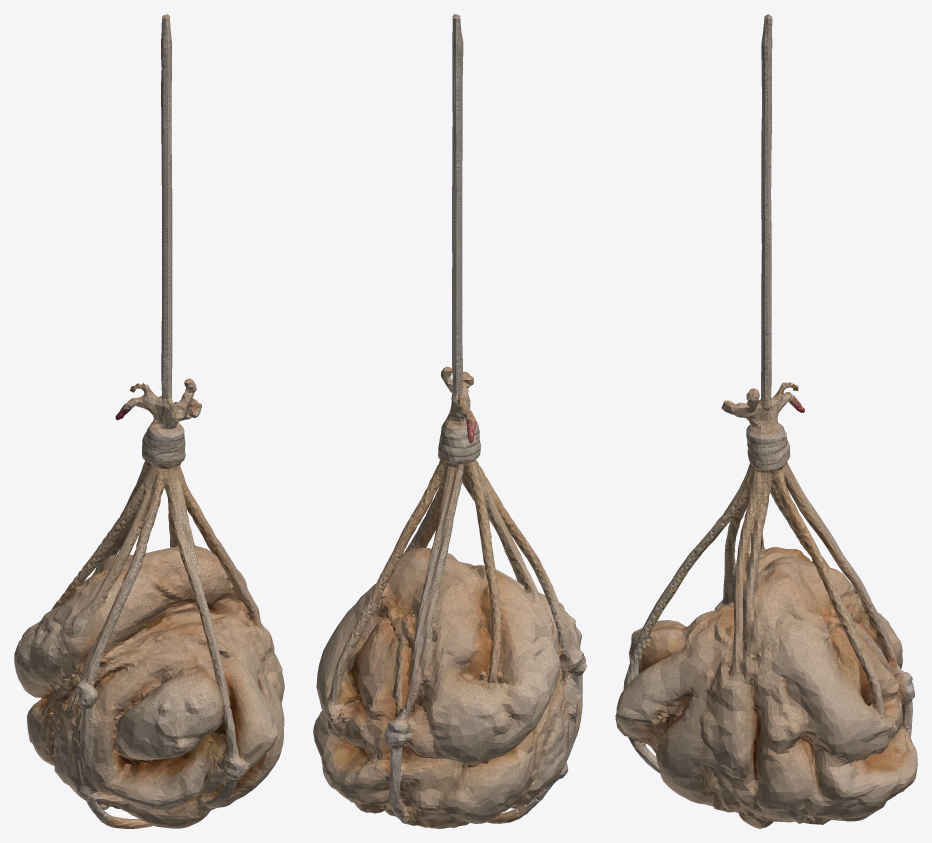
The model's file is wing (143).glb.
3 renders of one model, left to right at view 1: azimuth 30°, elevation 25°; view 2: azimuth 150°, elevation 25°; view 3: azimuth 270°, elevation 25°, orthographic.
Visible parts, largest first — view 1: Hy21_Mesh.obj; view 2: Hy21_Mesh.obj; view 3: Hy21_Mesh.obj.
Boxes of the visible parts, x1=… form: Hy21_Mesh.obj: x1=14, y1=14, x2=284, y2=828; Hy21_Mesh.obj: x1=313, y1=14, x2=586, y2=828; Hy21_Mesh.obj: x1=615, y1=14, x2=917, y2=828.
Bounding box in the file's own units: 0.5788 × 1.95 × 0.6589.
Materials: 1 (1 with a texture image).
